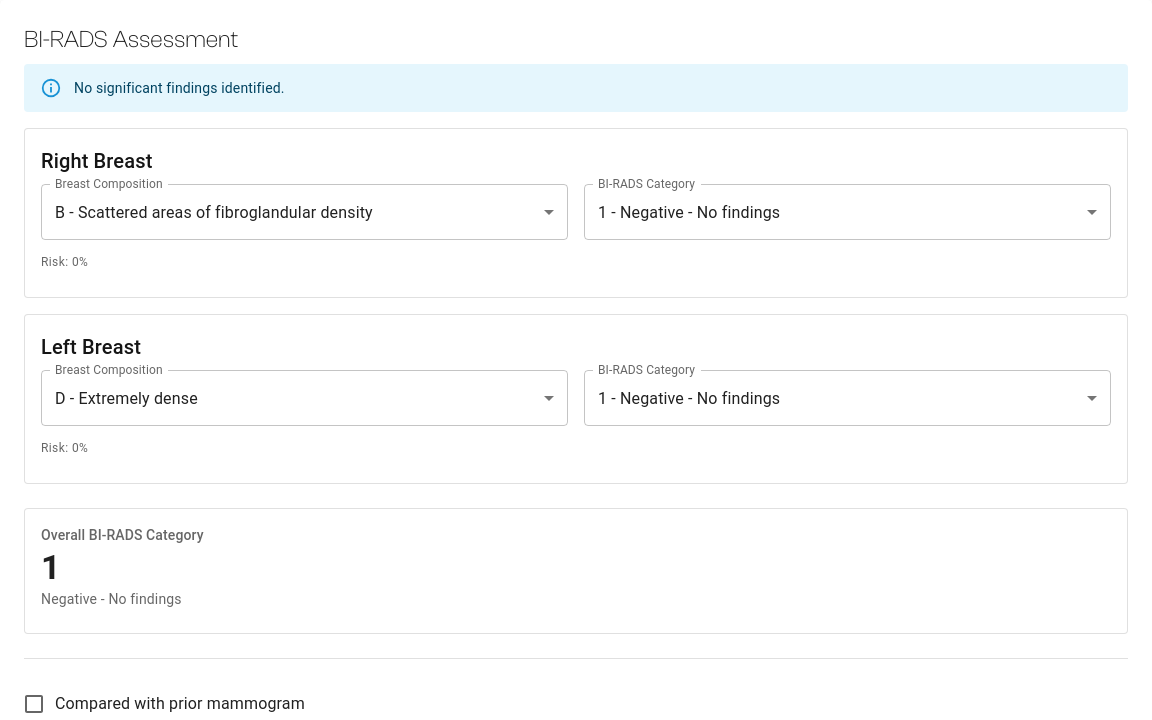
Test: BiRadsAssessmentStep Composition Selection › should allow selecting left breast composition
Press the mouse on the dropdown named "Breast Composition": (126, 398) [55,389,198,408]
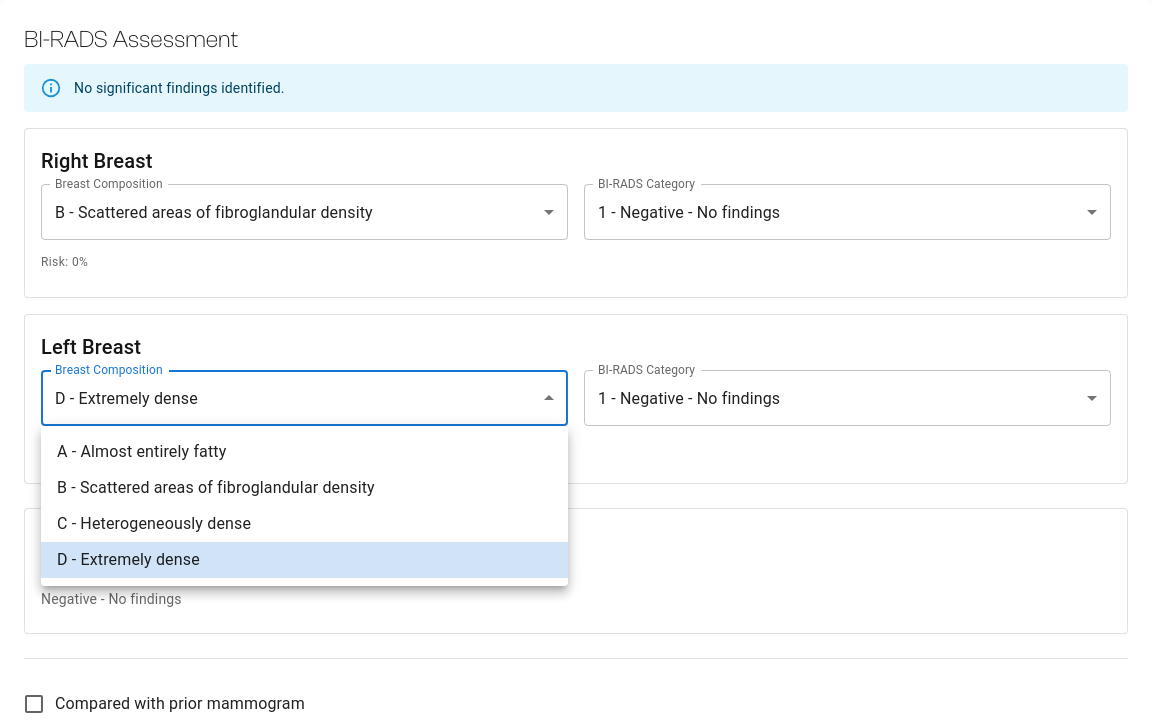
Expected: the option "D - Extremely dense" is shown, [41,542,568,578]
